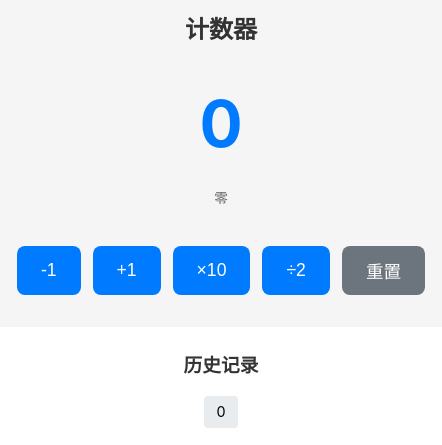
Test: Counter › should show correct status for negative numbers
Click the button "-1" at (49, 270), box [17,246,81,294]
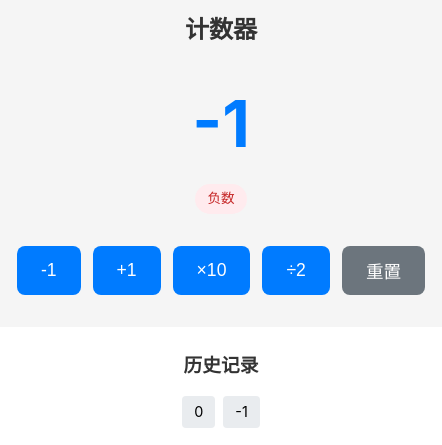
Expected: the text "负数" is shown, [195,184,247,214]
